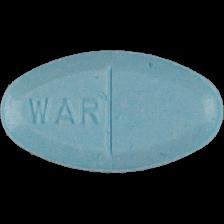21695-939: (0, 0, 224, 224)
